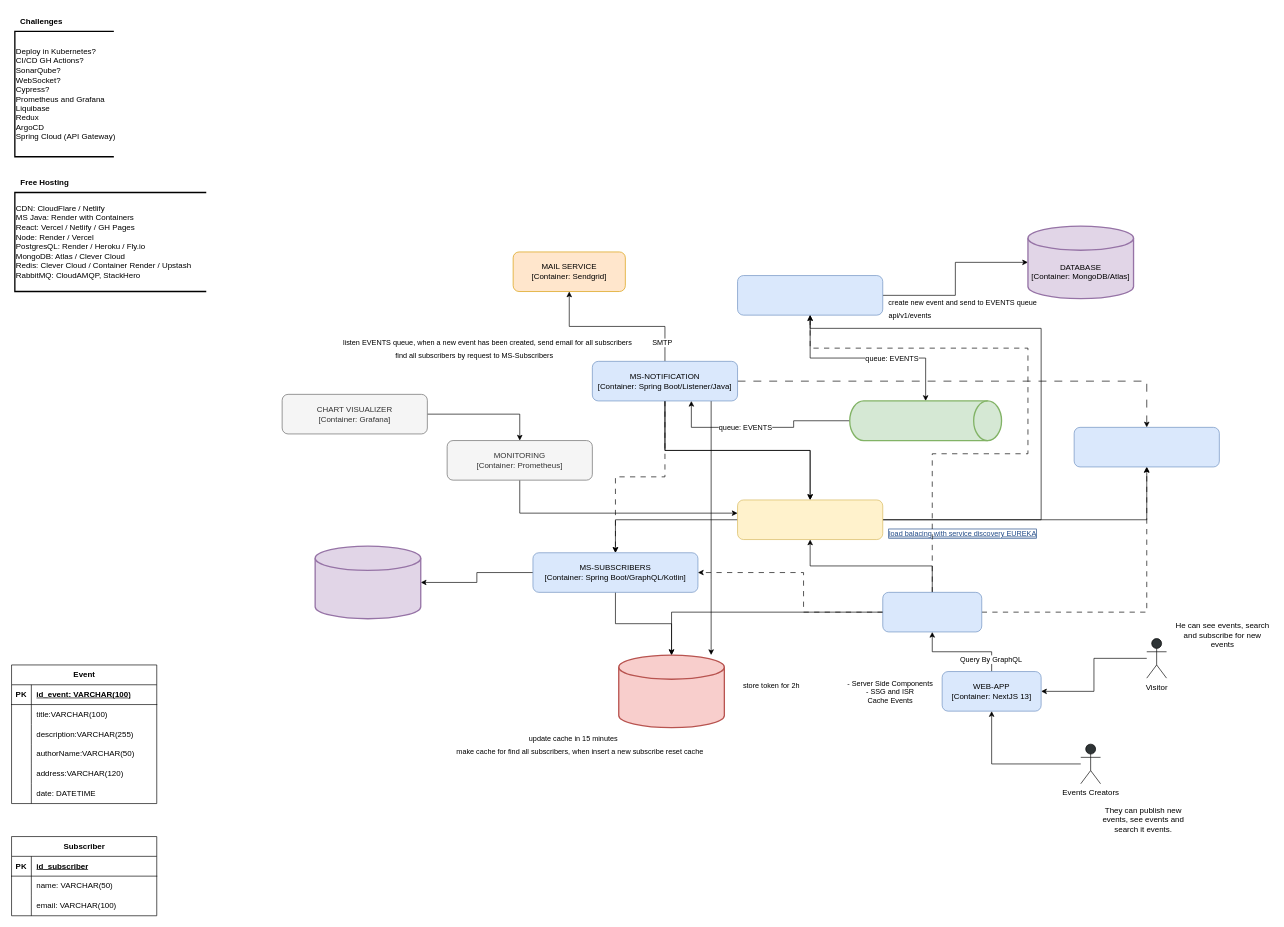
Image size: 1284x927. Some labels were removed from this diagram. Each missing label, with the centre of its shape:
Authentication [Container: Spring Boot/Java]: the point at 1146,447
BFF-SITE [Container: NestJS / GraphQL]: the point at 932,612
DATABASE [Container: PostgresQL]: the point at 367,582
DATABASE CACHE [Container: Redis]: the point at 671,691
MESSAGE-BROKER [Container: RabbitMQ]: the point at 925,420
MS-EVENTS [Container: Spring Boot/Publisher/Java]: the point at 810,295
Spring API Gateway [Container: Spring Boot / Java]: the point at 810,519
